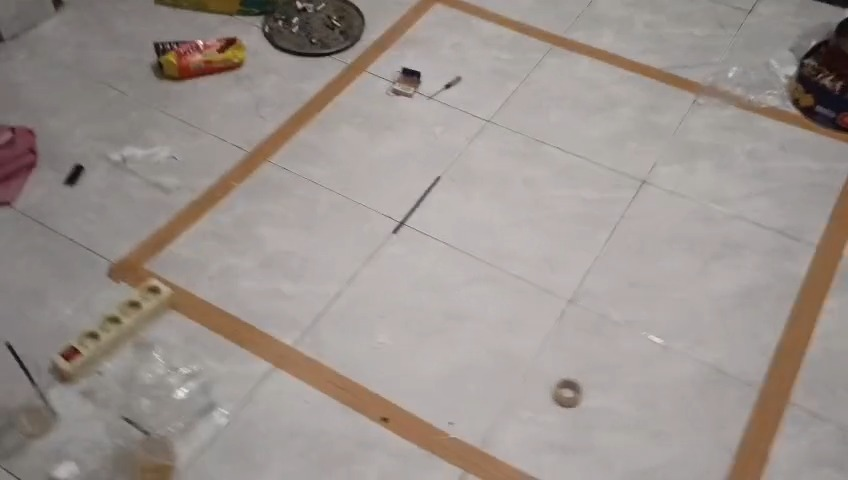floor marking: (109, 0, 847, 479), (727, 178, 847, 479)
